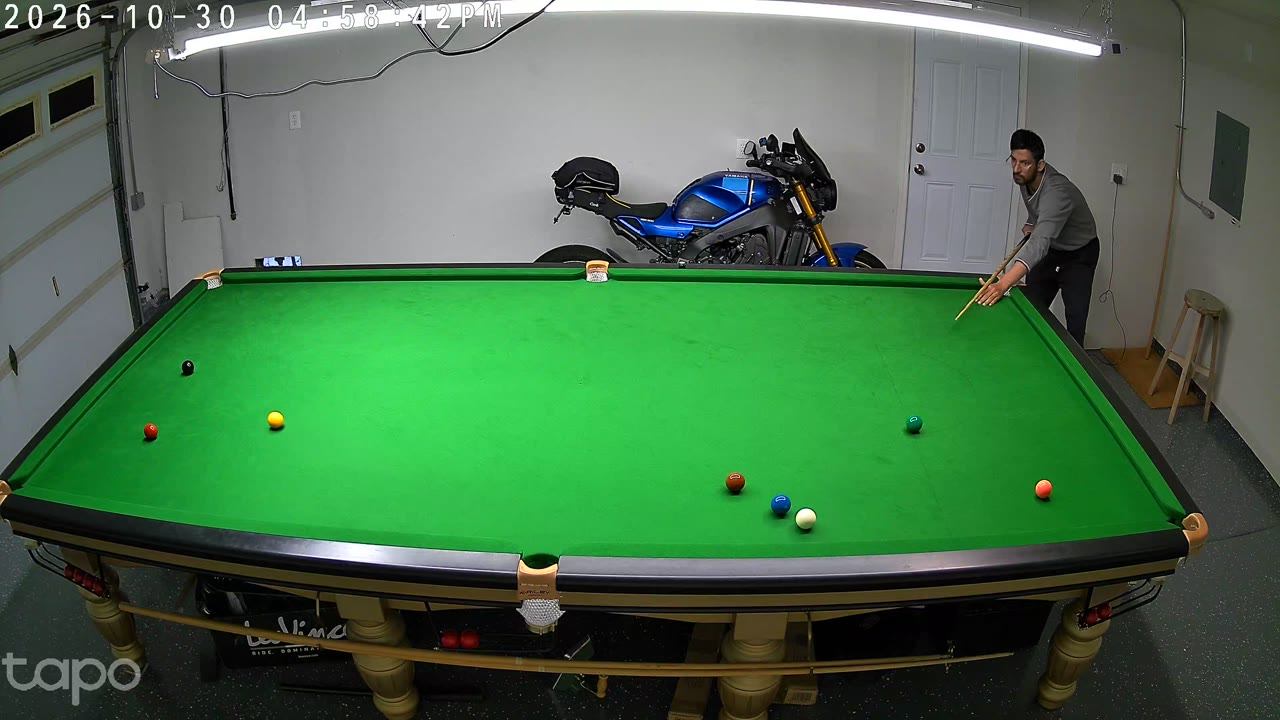black: (182, 358, 194, 378)
blue: (770, 491, 791, 521)
brown: (725, 470, 745, 497)
green: (906, 414, 922, 436)
red: (1035, 477, 1052, 502), (144, 422, 157, 442)
white: (795, 505, 817, 535)
yellow: (268, 411, 284, 431)
